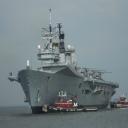Portanaves: (8, 8, 121, 116)
